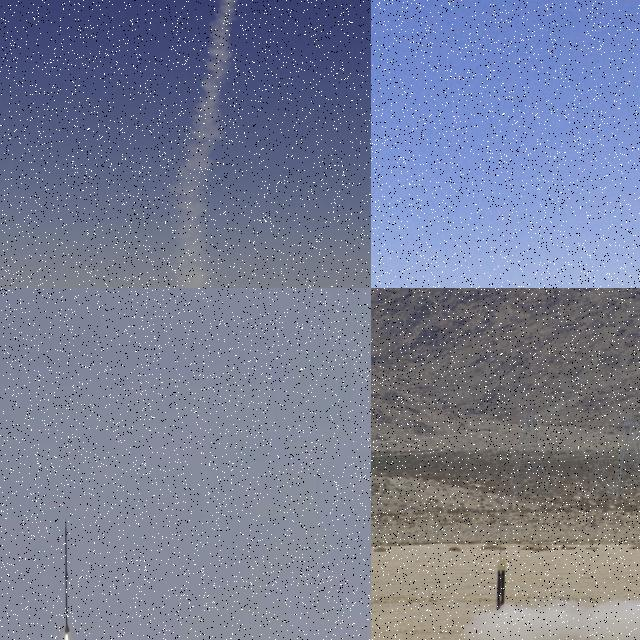Rocket: (64, 518, 69, 634), (496, 553, 506, 610)
